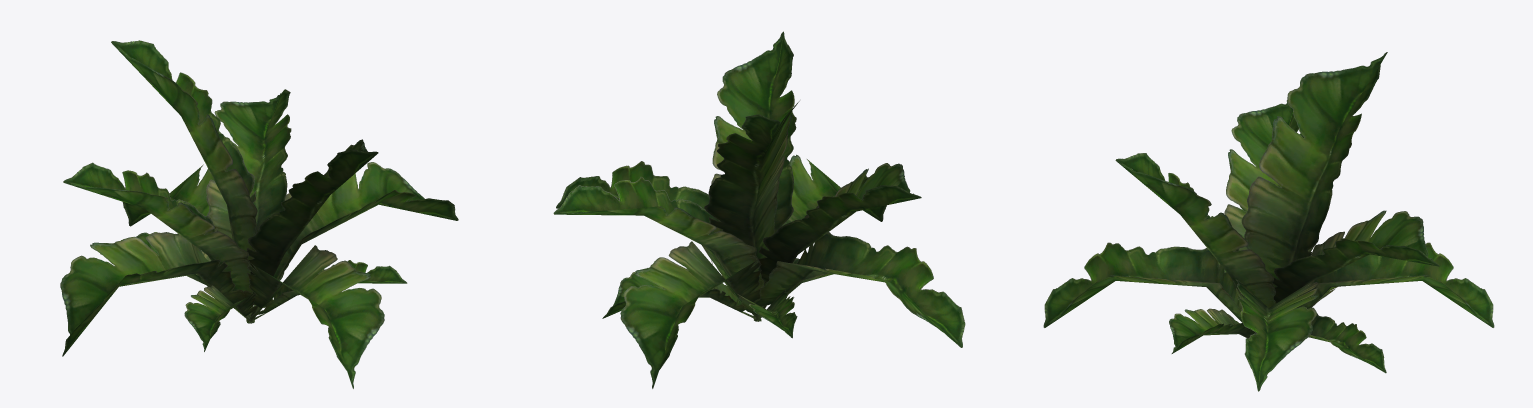
File: sholazarbroadleaf_bush01.obj
3 views of the same model, side by side, from view 1: azimuth 30°, elevation 25°; view 2: azimuth 150°, elevation 25°; view 3: azimuth 270°, elevation 25° (orthographic). The views are drawn at different scales.
Visible parts, largest first — view 1: sholazarbroadleaf_bush01; view 2: sholazarbroadleaf_bush01; view 3: sholazarbroadleaf_bush01.
Part boxes in pixels (bbox=[...]): sholazarbroadleaf_bush01: bbox=[60, 40, 458, 388]; sholazarbroadleaf_bush01: bbox=[553, 31, 965, 388]; sholazarbroadleaf_bush01: bbox=[1043, 52, 1494, 391].
Size of the model in its own units: 5.44 by 3.45 by 5.39.
1 material, 1 textured.
